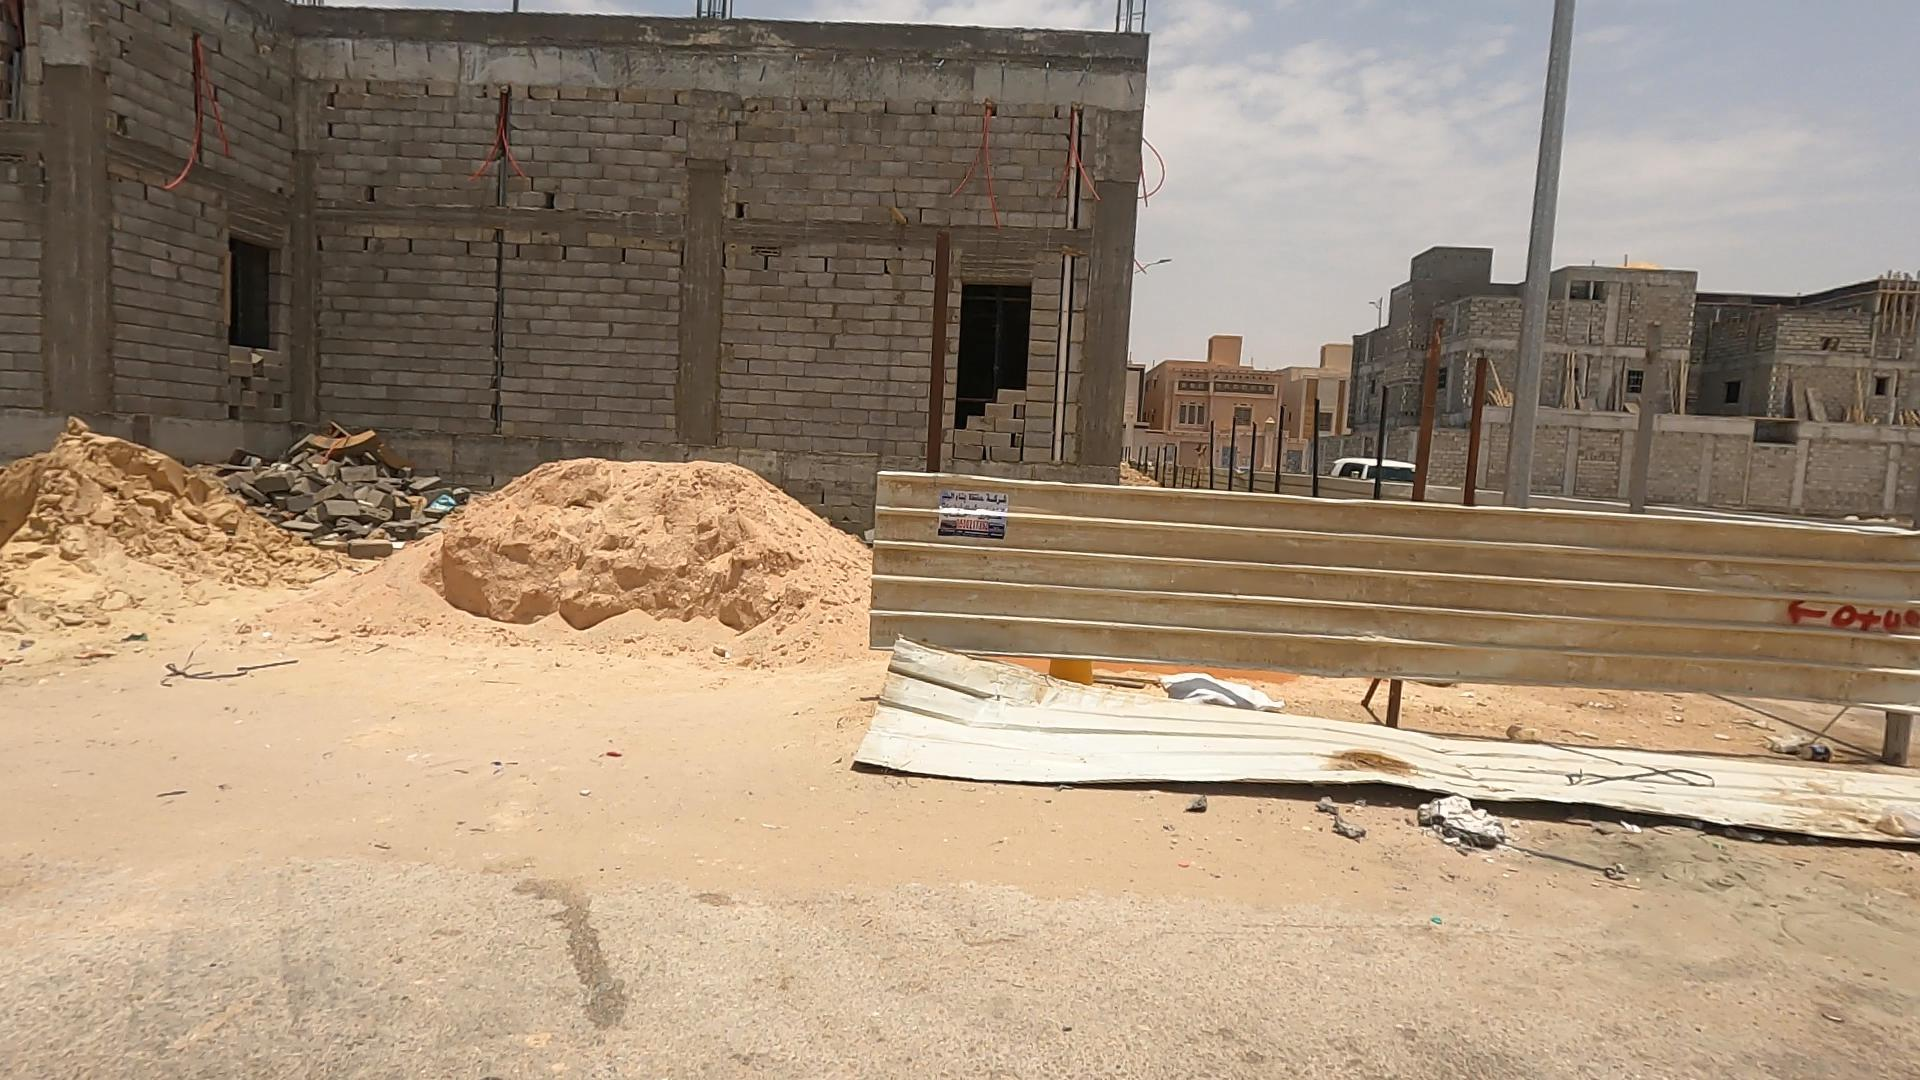SAND_ON_ROAD: (61, 285, 1227, 840)
